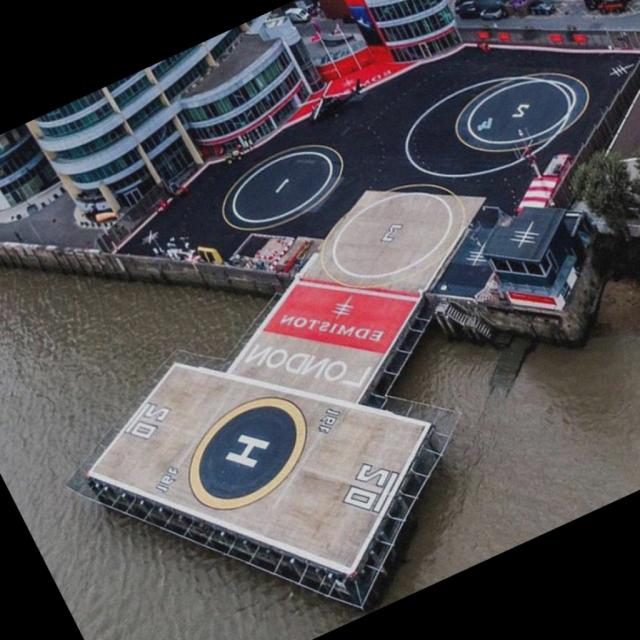helipad: (183, 392, 309, 514)
